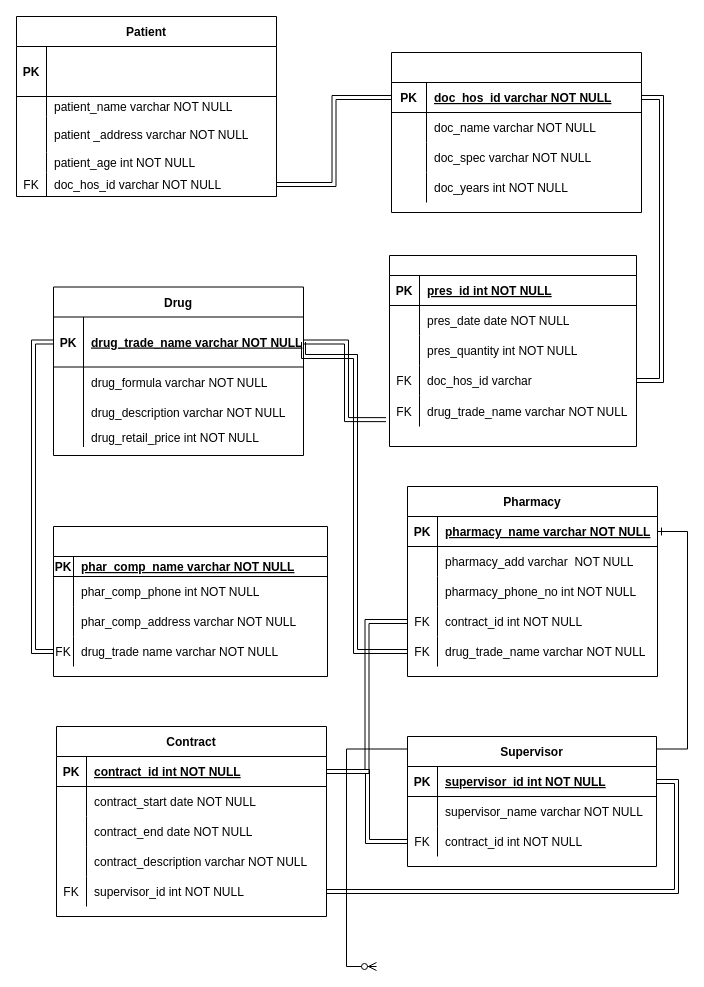
Some shapes in this 704 by 987 pixel diagram are drawn without their labels. The box of each missing label's shape, as (x1, y1, x2, y2) in pixels:
Doctor: (390, 52, 642, 212)
Pharmaceutical Company: (52, 526, 328, 676)
Prescription: (388, 254, 636, 446)
